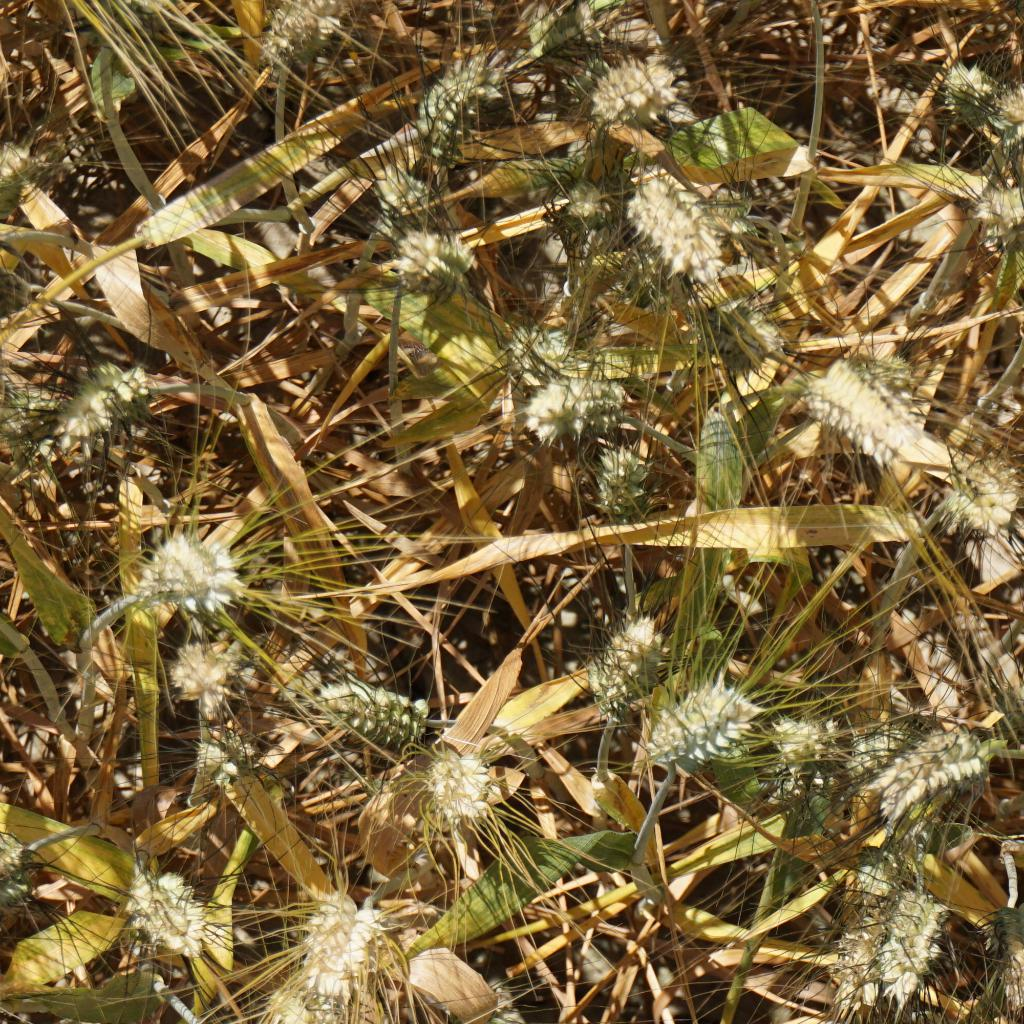0-0: (830, 835, 918, 1007), (856, 729, 988, 837), (807, 351, 927, 458), (296, 889, 396, 1014), (51, 353, 155, 461), (130, 527, 247, 616), (648, 681, 757, 775), (116, 863, 212, 965), (631, 176, 726, 276), (410, 46, 501, 144), (308, 669, 427, 741), (878, 888, 949, 1005), (243, 0, 349, 77), (583, 59, 680, 135), (585, 614, 664, 705), (387, 225, 476, 304), (937, 464, 1024, 543), (162, 638, 247, 716), (583, 439, 658, 525), (520, 373, 621, 431), (519, 0, 629, 53), (189, 732, 273, 797), (551, 168, 623, 242), (979, 895, 1024, 1011), (421, 754, 499, 818), (370, 154, 444, 221), (691, 183, 766, 244), (716, 294, 780, 364), (438, 981, 537, 1024), (0, 372, 51, 455), (926, 65, 986, 132), (501, 323, 577, 373), (963, 178, 1024, 238), (823, 721, 896, 770), (772, 715, 830, 772), (0, 130, 40, 209), (261, 990, 339, 1024), (610, 251, 662, 302), (0, 843, 30, 915), (995, 89, 1024, 147), (1001, 673, 1024, 741)
